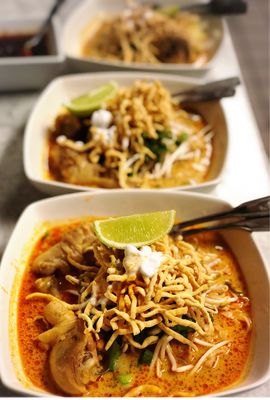salad: (169, 207, 269, 236)
sushi: (2, 189, 264, 398), (22, 72, 230, 197), (59, 0, 231, 70), (0, 0, 68, 93)
